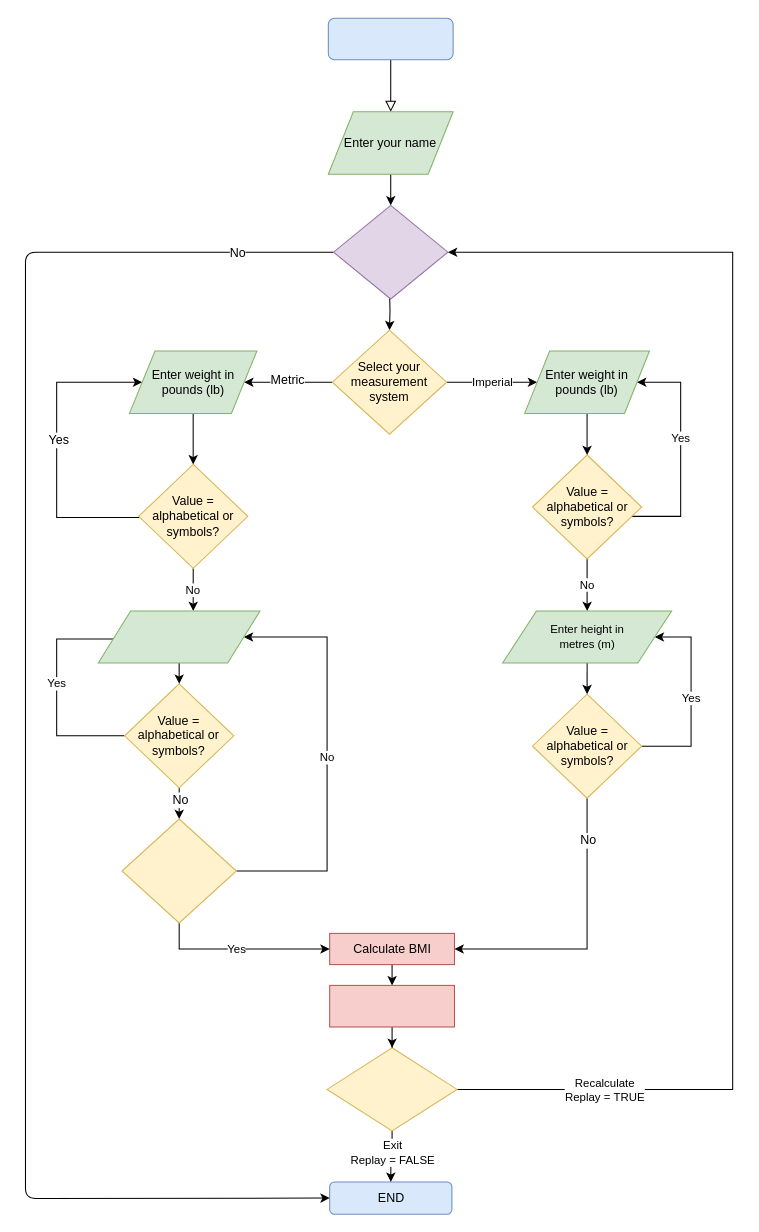
Image size: 759x1232. Some labels were removed from this diagram. Here are the shapes that lost their labels. From the top down, the box of each, then its label:
(327, 17, 453, 60): START
(332, 204, 448, 299): Replay = TRUE?
(97, 610, 260, 663): Enter height in ft and inches (e.g. 5'7)
(121, 818, 236, 923): Value includes apostrophe?
(329, 984, 454, 1027): Dispay BMI score
(326, 1047, 457, 1131): Recalculate or Exit?
